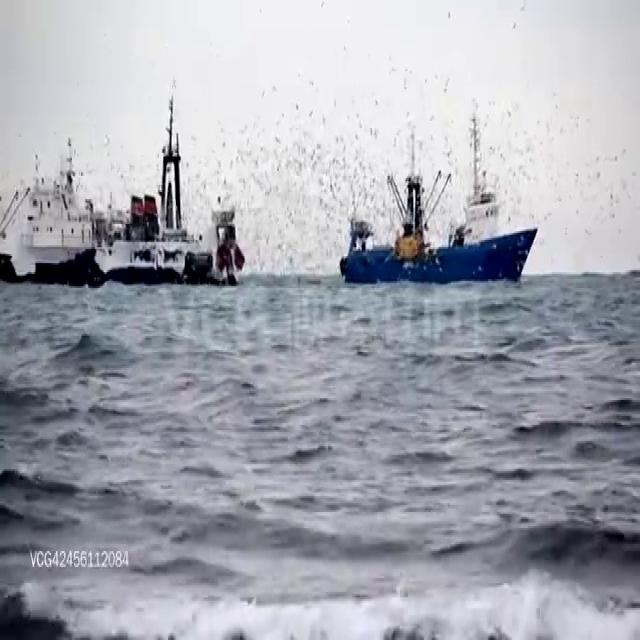houseboat: (334, 122, 535, 288), (70, 94, 246, 280), (0, 131, 121, 269)
